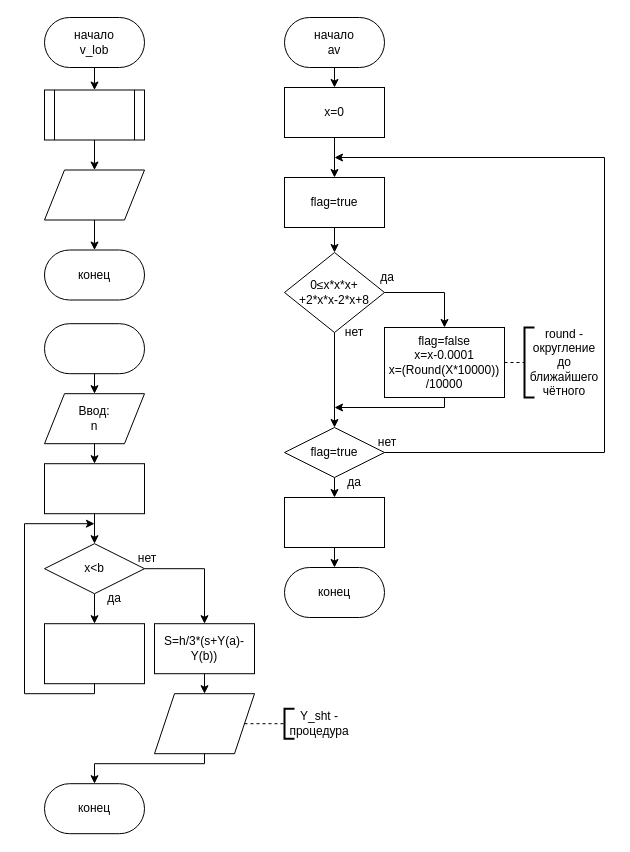
The diagram is 630 pixels wide and 852 high, and some of its shapes have lost their labels. Here are the shapes that lost their labels. From the top down, the centre of each, then its label:
the point at 94,114: S=Y_sht(b)-Y_sht(a)
the point at 94,194: Вывод: S
the point at 94,348: начало v_simsona
the point at 94,488: h=(b-a)/n s=0 x=a+h
the point at 334,522: av=x
the point at 94,653: s=s+4*Y(x) x=x+h s=s+2*Y(x) x=x+h
the point at 204,723: Вывод: s, (Y_sht(b)- -Y_sht(a)) - s
